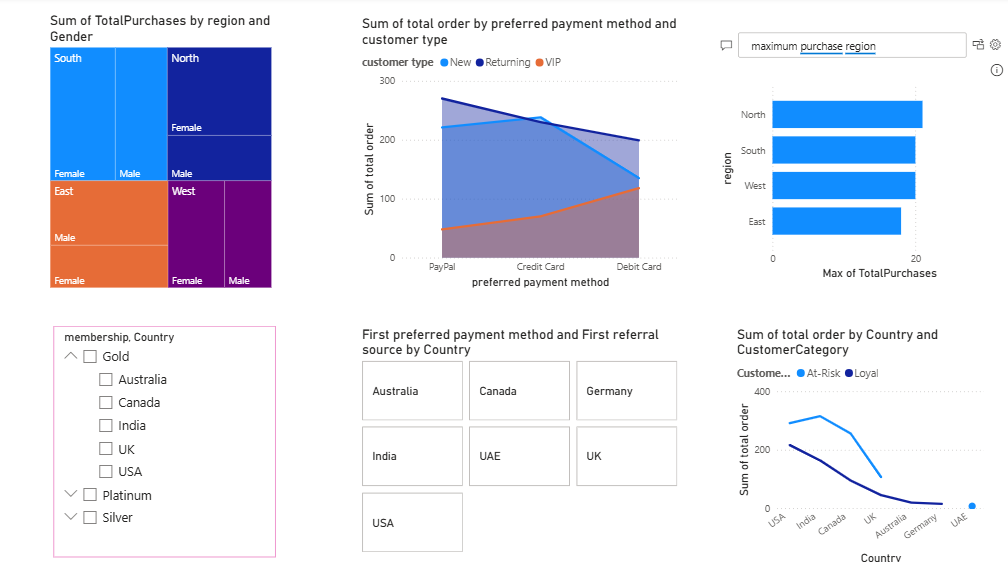

This screenshot's page, from the dashboard's own definition file:
{"tool":"powerbi","page":{"name":"Page 2","canvas":[1280,720],"ordinal":1},"visuals":[{"type":"slicer","fields":{"Values":["Sheet1.membership","Sheet1.Country"]},"box":[77.5,415.8,279.7,291],"z":0},{"type":"treemap","fields":{"Group":["Sheet1.region"],"Values":["Sum(Sheet1.TotalPurchases)"],"Details":["Sheet1.Gender"]},"box":[68,20.8,289.1,351.5],"z":1000},{"type":"areaChart","fields":{"Category":["Sheet1.preferred payment method"],"Series":["Sheet1.customer type"],"Y":["Sum(Sheet1.total order)"]},"box":[461.1,24.6,408.2,347.7],"z":2000},{"type":"qnaVisual","box":[909,20.8,370.4,355.3],"z":3000},{"type":"advancedSlicerVisual","fields":{"Values":["Sheet1.Country"]},"box":[461,416,408,291],"z":4000},{"type":"lineChart","fields":{"Category":["Sheet1.Country"],"Series":["Sheet1.CustomerCategory"],"Y":["Sum(Sheet1.total order)"]},"box":[933.6,415.8,321.3,304.3],"z":5000}]}

Visuals, with their boxes in screenshot pixels (x1, y1, x2, y2), scaled from the page's 1280x720 canvas onto the 1008x562 screenshot:
slicer - Sheet1.membership x Sheet1.Country: x1=61 y1=325 x2=281 y2=552
treemap - Sheet1.region x Sum(Sheet1.TotalPurchases): x1=54 y1=16 x2=281 y2=291
areaChart - Sheet1.preferred payment method x Sheet1.customer type: x1=363 y1=19 x2=685 y2=291
qnaVisual: x1=716 y1=16 x2=1007 y2=294
advancedSlicerVisual - Sheet1.Country: x1=363 y1=325 x2=684 y2=552
lineChart - Sheet1.Country x Sheet1.CustomerCategory: x1=735 y1=325 x2=988 y2=561
